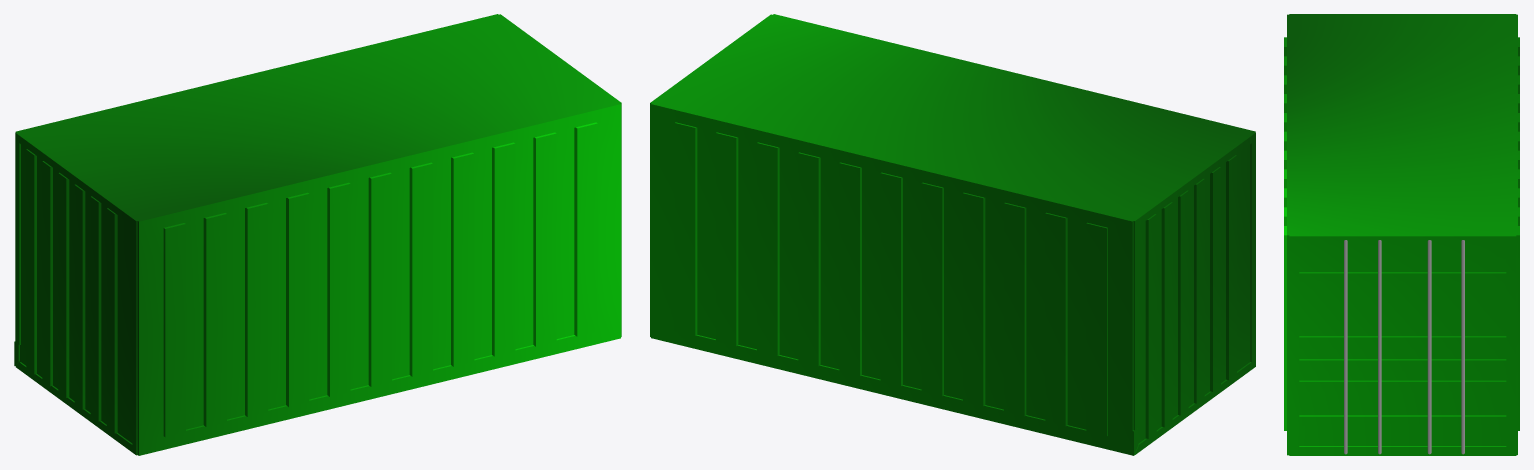
Rendered from TA_sm_container.fbx.
3 views of the same model, side by side, from view 1: azimuth 30°, elevation 25°; view 2: azimuth 150°, elevation 25°; view 3: azimuth 270°, elevation 25° (orthographic). The views are drawn at different scales.
Visible parts, largest first — view 1: Contenedor; view 2: Contenedor; view 3: Contenedor.
Boxes of the visible parts, left/top/right/bottom form: Contenedor: left=14, top=14, right=621, bottom=455; Contenedor: left=650, top=14, right=1255, bottom=455; Contenedor: left=1284, top=14, right=1519, bottom=455.
Size of the model in its own units: 13.17 by 6.04 by 5.87.
1 material, 1 textured.
